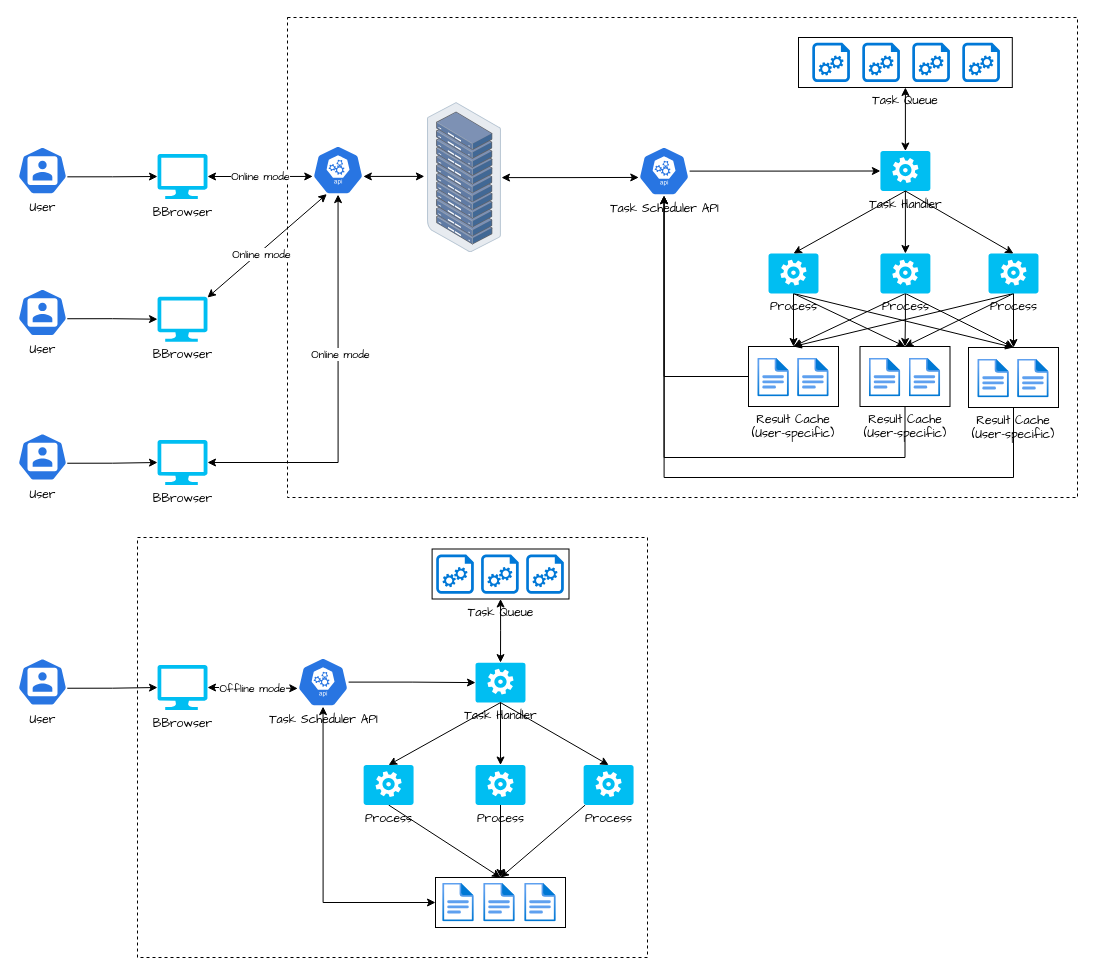
Image size: 1095x975. Some labels were removed from this diagram. Each missing label, with the box of its shape:
BBrowser API: (312, 144, 364, 195)
BioTuring Server: (427, 102, 501, 252)
Result Cache: (434, 876, 566, 928)
